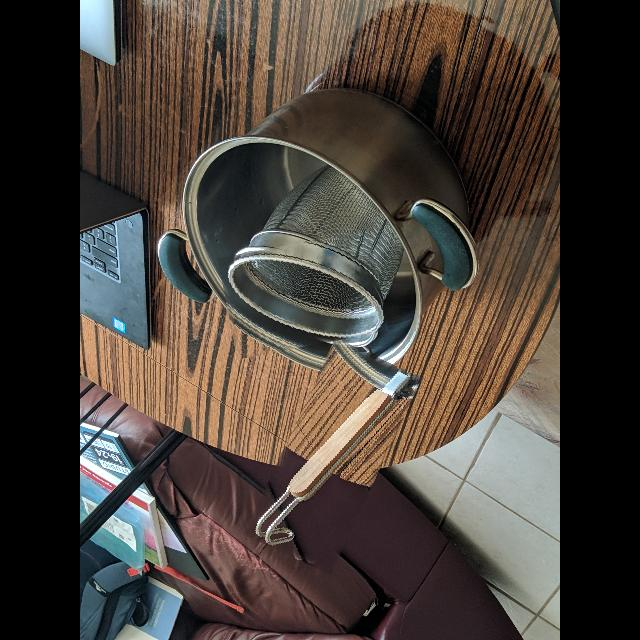Handle: (247, 366, 422, 546)
Strainer: (221, 256, 385, 341)
